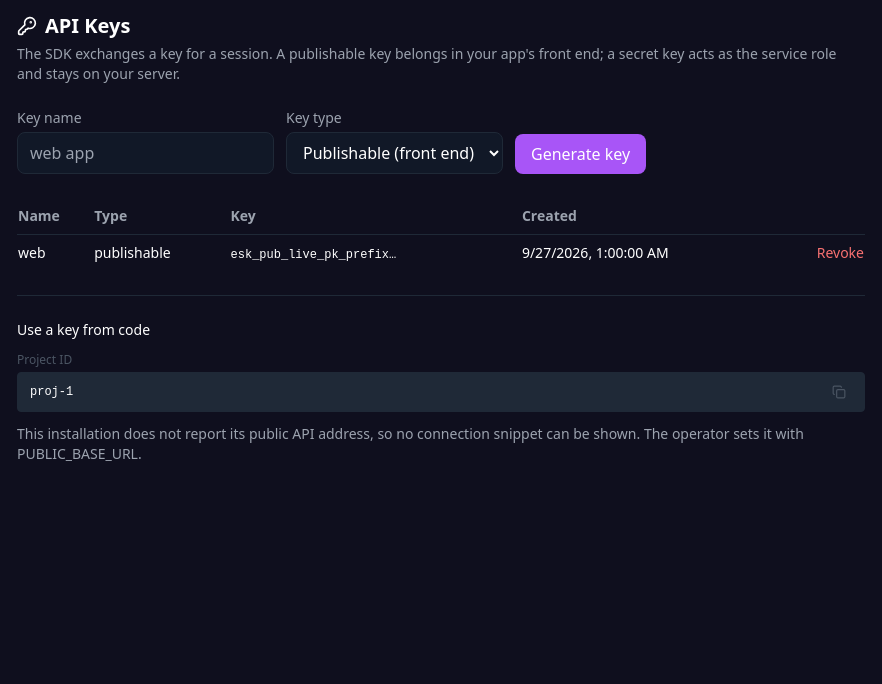
Test: SDK keys › a new secret key is shown once, with a server-only warning
Check: the row with test id "sdk-key-7" is shown, box [17, 234, 865, 271]
Type "server" into the field labelled "Key name" at (146, 153), box [17, 132, 274, 174]
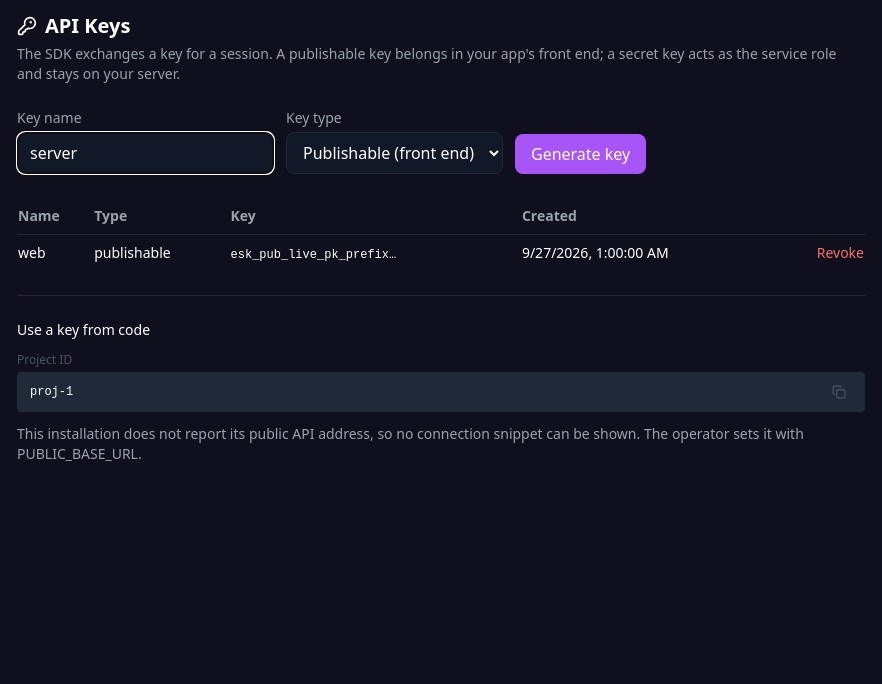
Select "Secret (server only)" in the dropdown labelled "Key type" at (394, 153), box [286, 132, 503, 174]
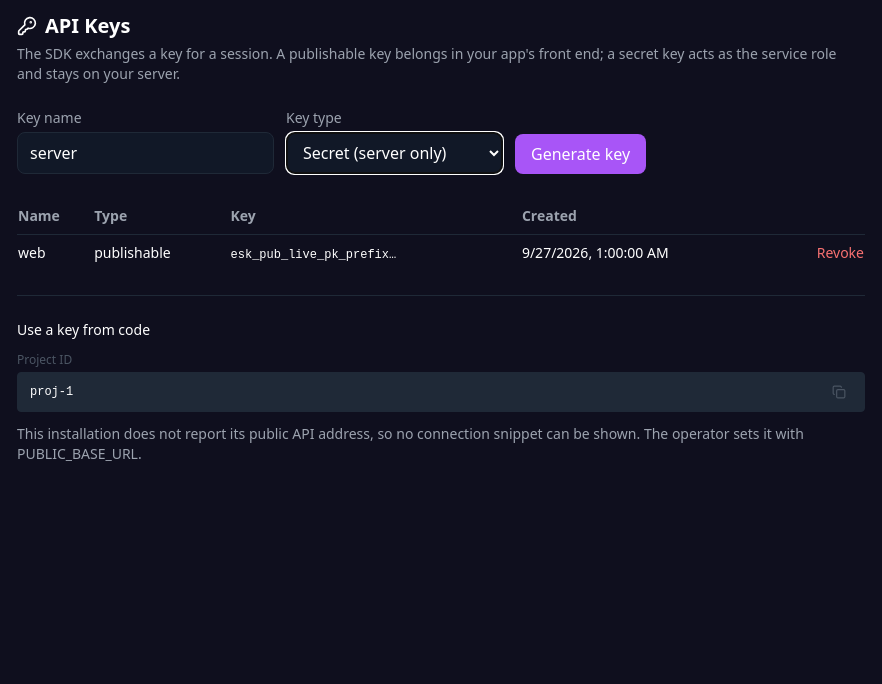
Click the button "Generate key" at (581, 154), box [515, 134, 646, 174]
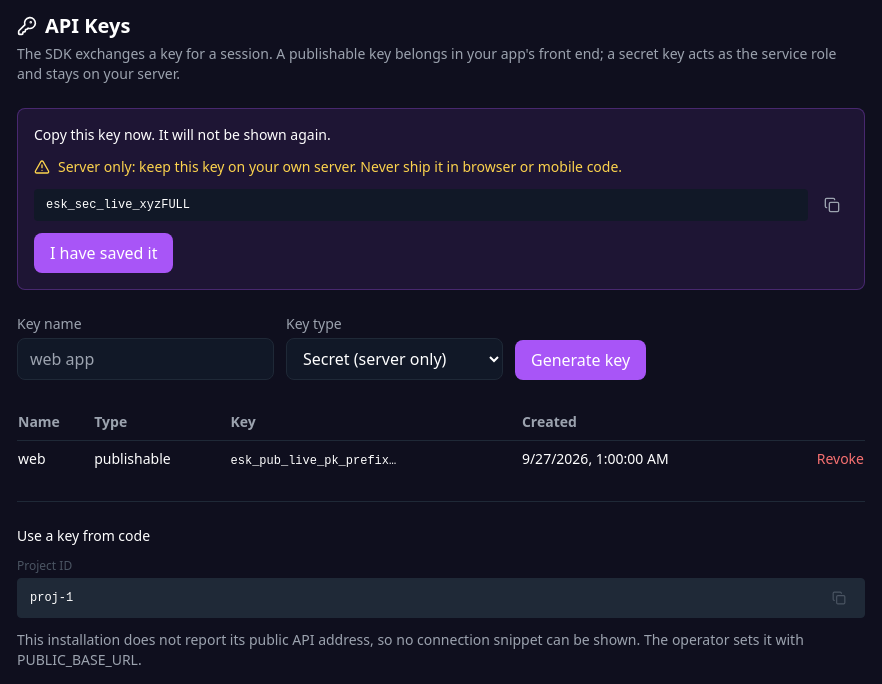
Check: the element with test id "new-sdk-key" shows "esk_sec_live_xyzFULL", box [46, 198, 190, 212]
Check: the text "Server only" is shown, box [58, 157, 622, 176]
Click the button "I have saved it" at (104, 253), box [34, 233, 174, 273]
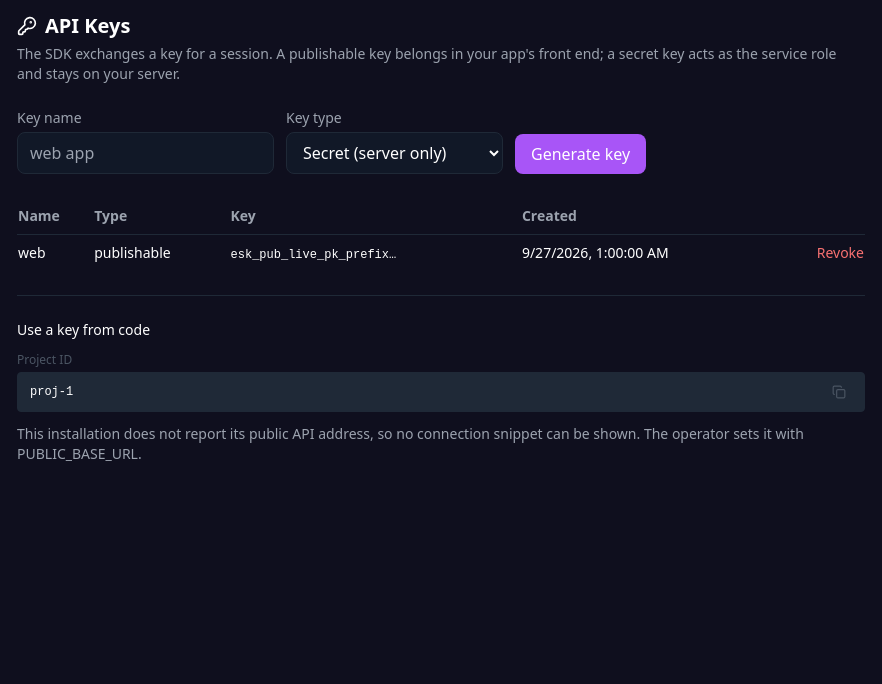
Check: the text "esk_sec_live_xyzFULL" is gone
